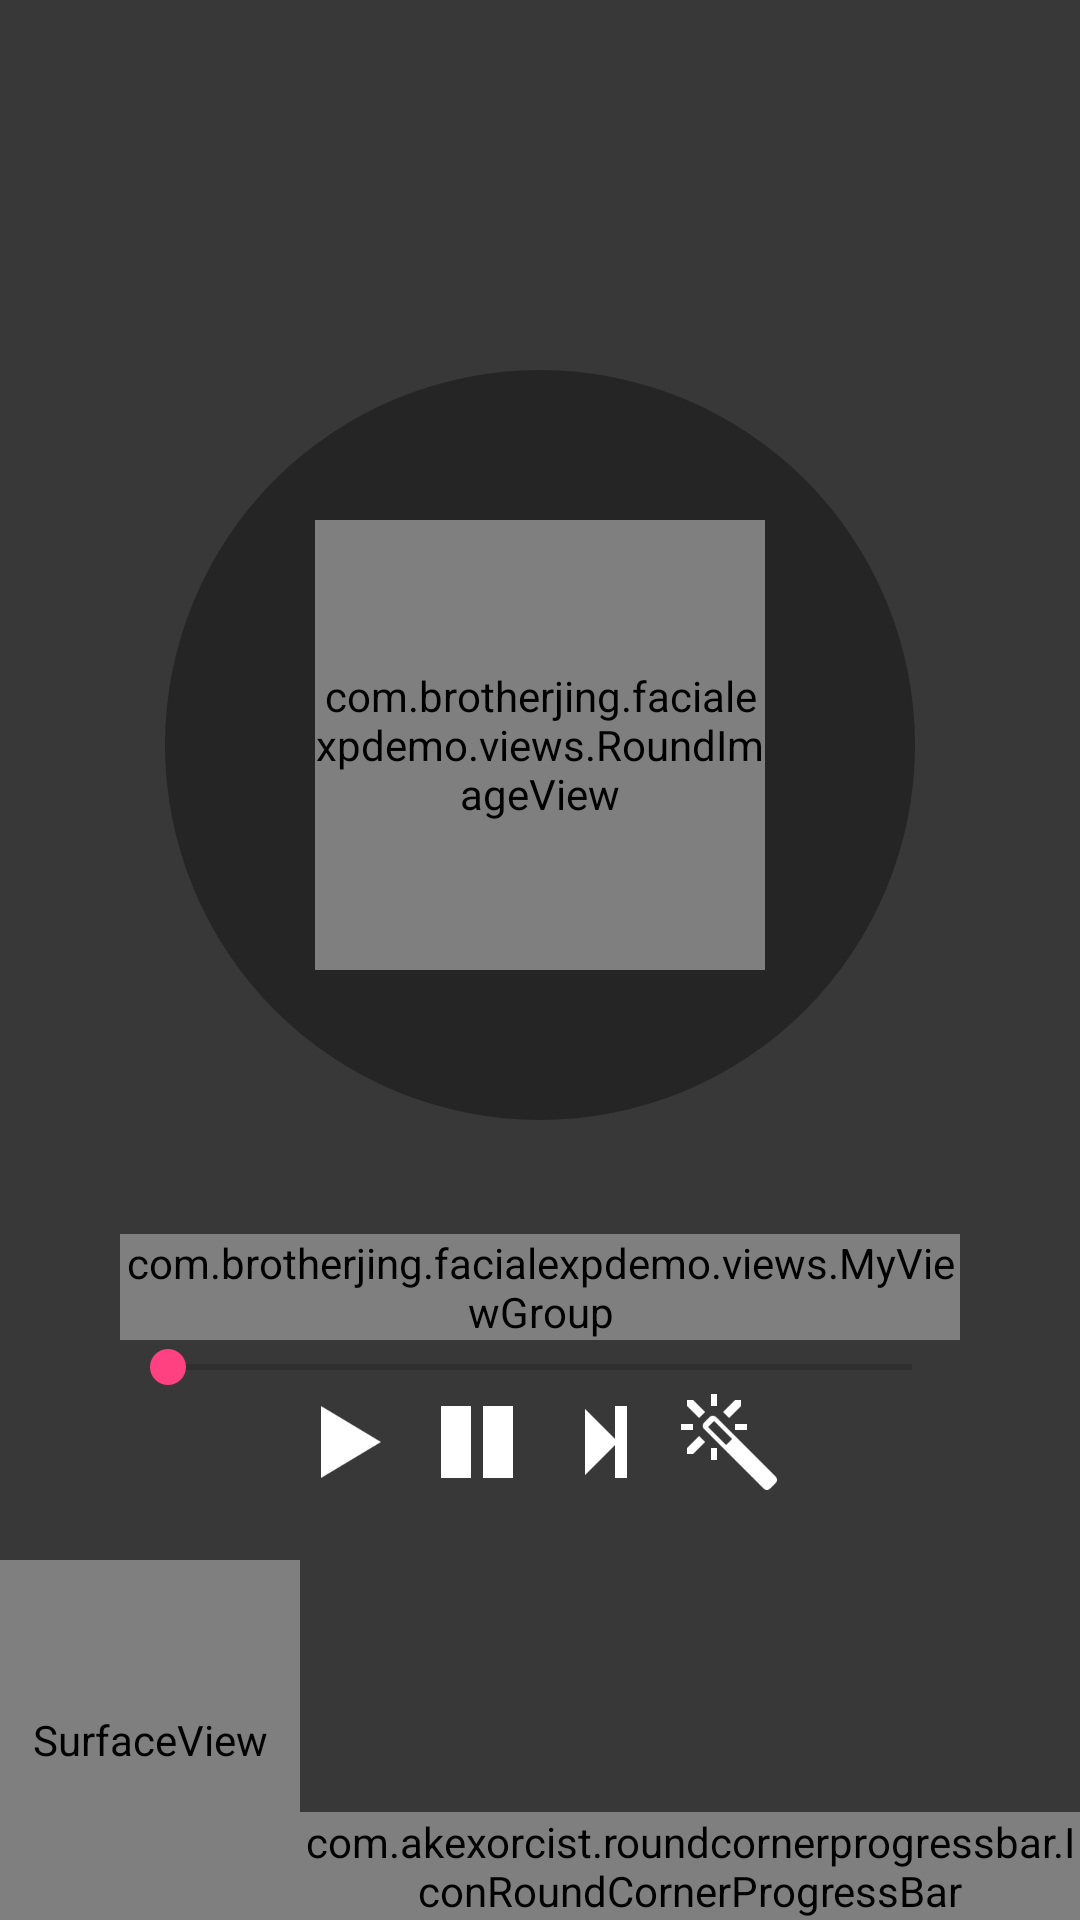

Where to tap for icons on this 1080px×1920px app screen, as (x=x, y=y):
magic: (x=729, y=1442)
next: (x=606, y=1442)
pause: (x=477, y=1442)
play: (x=351, y=1442)
